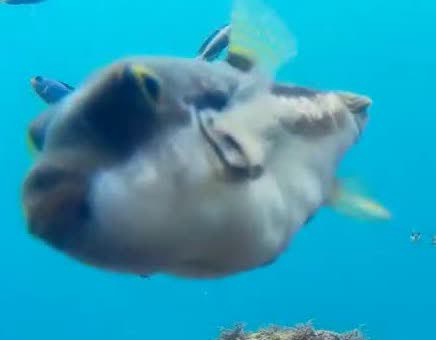hugu: (11, 23, 403, 273)
